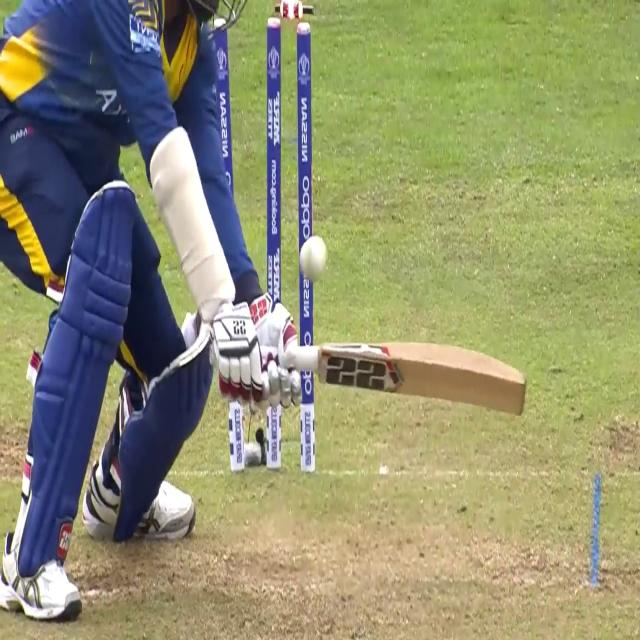ball: (297, 225, 329, 286)
